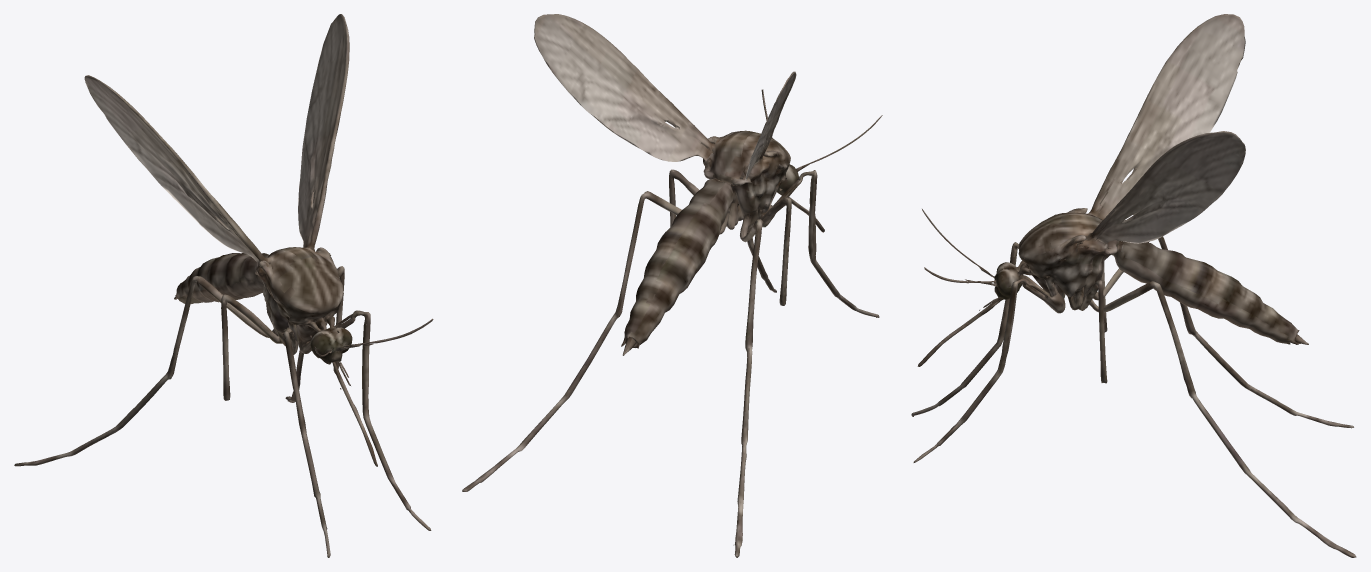
Rendered from Zumbador.glb.
3 renders of one model, left to right at view 1: azimuth 30°, elevation 25°; view 2: azimuth 150°, elevation 25°; view 3: azimuth 270°, elevation 25°, orthographic. The views are drawn at different scales.
Parts seen in each view (by area): view 1: Zumbador; view 2: Zumbador; view 3: Zumbador.
Boxes of the visible parts, x1=… form: Zumbador: x1=14, y1=14, x2=433, y2=557; Zumbador: x1=462, y1=14, x2=882, y2=557; Zumbador: x1=911, y1=14, x2=1356, y2=557.
Size of the model in its own units: 0.0669 by 0.1 by 0.096.
Materials: 1 (1 with a texture image).
